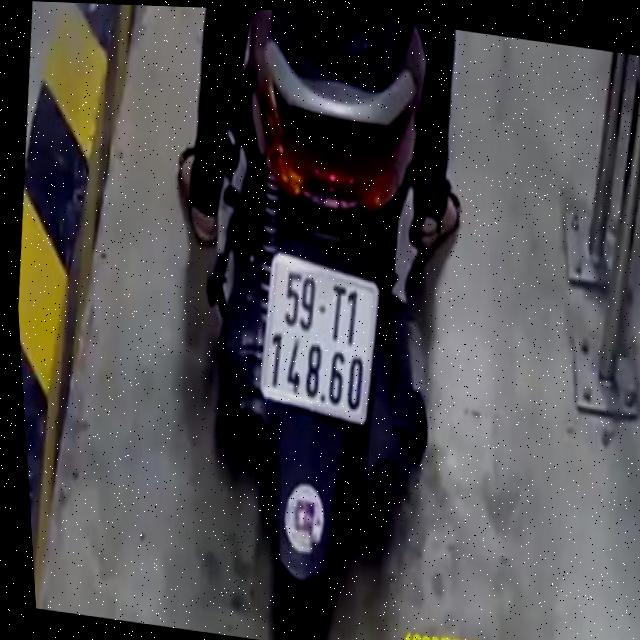motorcycle: (157, 6, 495, 640)
plate: (245, 246, 392, 426)
